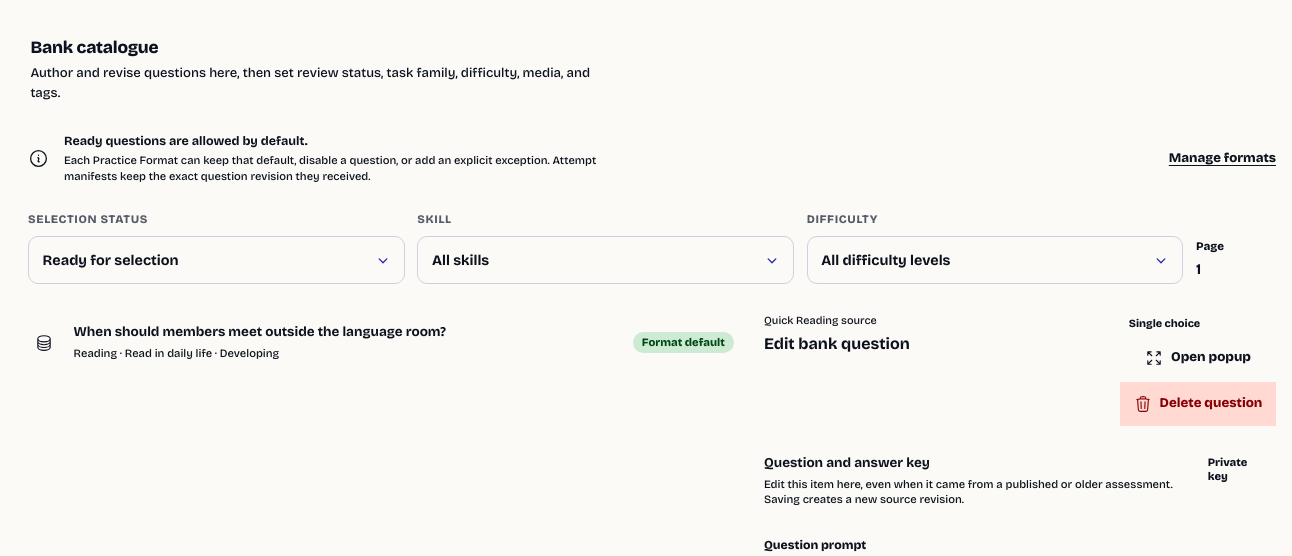
Test: QuestionBankManager › lets an owner permanently delete an unused bank entry through the shared confirmation flow
(page scrolled)
Click the button "Delete question": (1198, 404) [1120,382,1276,426]
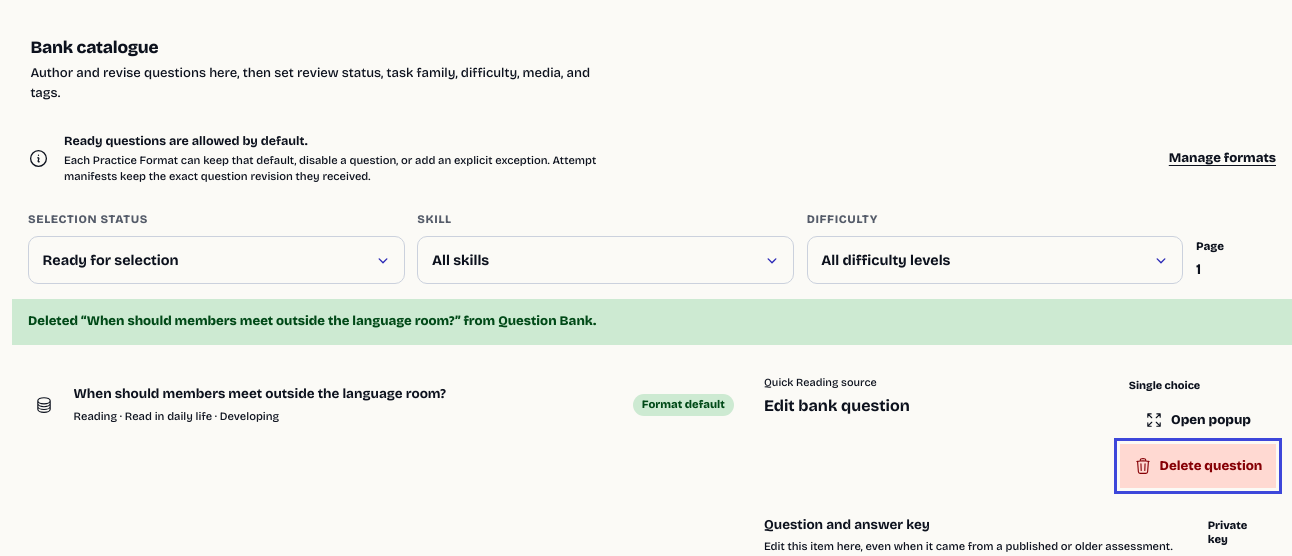
Now the text "Deleted “When should members meet outside the language room?” from Question Bank." is shown, box [28,313,596,329]
